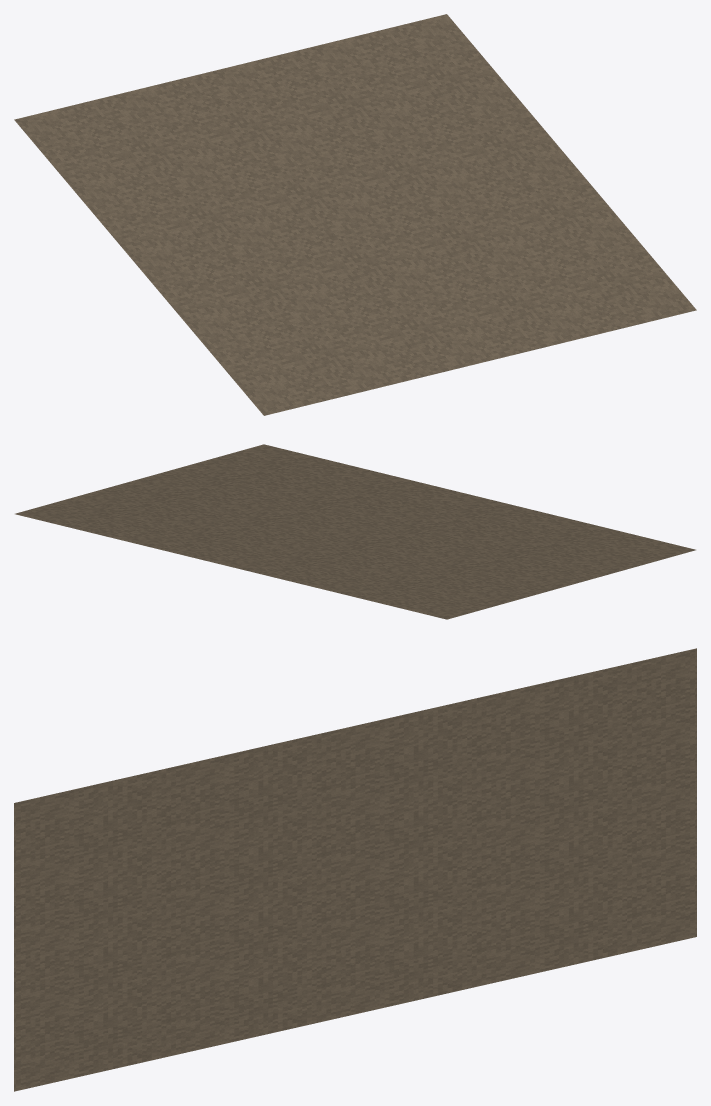
The picture shows the model from 3 angles, top to bottom: view 1: azimuth 30°, elevation 25°; view 2: azimuth 150°, elevation 25°; view 3: azimuth 270°, elevation 25°; orthographic projection. The views are drawn at different scales.
Visible parts, largest first — view 1: ST2-T06_Mesh; view 2: ST2-T06_Mesh; view 3: ST2-T06_Mesh.
Boxes of the visible parts, x1,y1,x2,y2 form: ST2-T06_Mesh: (14,14,696,415); ST2-T06_Mesh: (15,444,695,619); ST2-T06_Mesh: (14,648,696,1091).
Size of the model in its own units: 8 by 2 by 8.
Materials: 1 (1 with a texture image).
